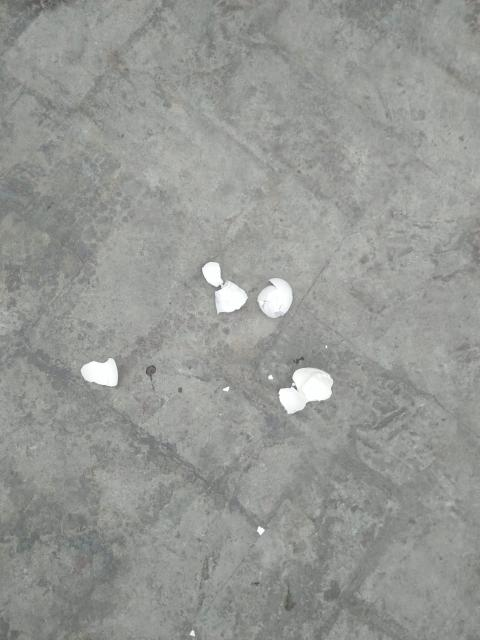Roto: (199, 262, 248, 314), (294, 366, 334, 404), (256, 277, 293, 318), (80, 357, 118, 387), (278, 386, 306, 414)
